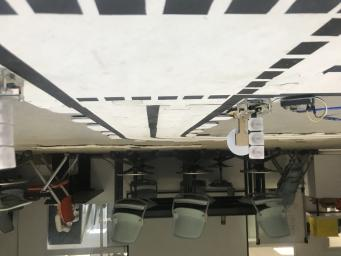traffic_light: (0, 66, 24, 170), (0, 66, 24, 170), (0, 66, 24, 170), (0, 66, 24, 170), (0, 66, 24, 170), (0, 66, 24, 170), (237, 99, 271, 159), (237, 99, 271, 159), (237, 99, 271, 159), (237, 99, 271, 159), (237, 99, 271, 159), (237, 99, 271, 159)
